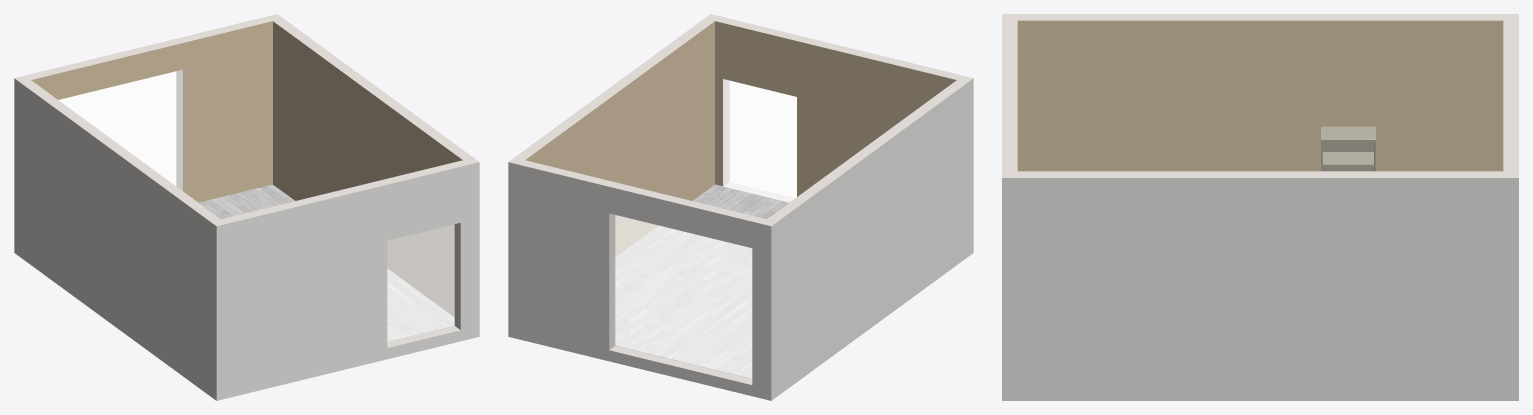
Rendered from cuisine_papi.glb.
3 views of the same model, side by side, from view 1: azimuth 30°, elevation 25°; view 2: azimuth 150°, elevation 25°; view 3: azimuth 270°, elevation 25° (orthographic). The views are drawn at different scales.
Parts seen in each view (by area): view 1: wall_3 (×3), wall_0 (×2), wall_1 (×2), wall_2 (×3), door_0 (×2), door_1 (×2), floor_Other_0; view 2: wall_0 (×2), door_0 (×2), wall_2 (×3), wall_3 (×3), wall_1 (×2), floor_Other_0, door_1 (×2); view 3: wall_1 (×2), wall_0 (×2), storage0, wall_2, wall_3.
Part boxes in pixels (x1,y1,x2,y2): wall_3 (×3): (216,160,479,400); wall_0 (×2): (14,78,220,400); wall_1 (×2): (273,14,478,316); wall_2 (×3): (14,14,276,202); door_0 (×2): (59,70,182,190); door_1 (×2): (387,224,454,341); floor_Other_0: (199,184,454,341); wall_0 (×2): (767,78,973,400); door_0 (×2): (615,215,751,378); wall_2 (×3): (508,160,771,400); wall_3 (×3): (711,14,973,202); wall_1 (×2): (509,14,714,256); floor_Other_0: (615,184,788,378); door_1 (×2): (723,79,796,202); wall_1 (×2): (1002,171,1518,400); wall_0 (×2): (1002,14,1518,171); storage0: (1321,126,1375,171); wall_2: (1503,14,1518,177); wall_3: (1002,14,1017,177).
Size of the model in its own units: 2.47 by 1.56 by 3.29.
13 materials, 1 textured.
